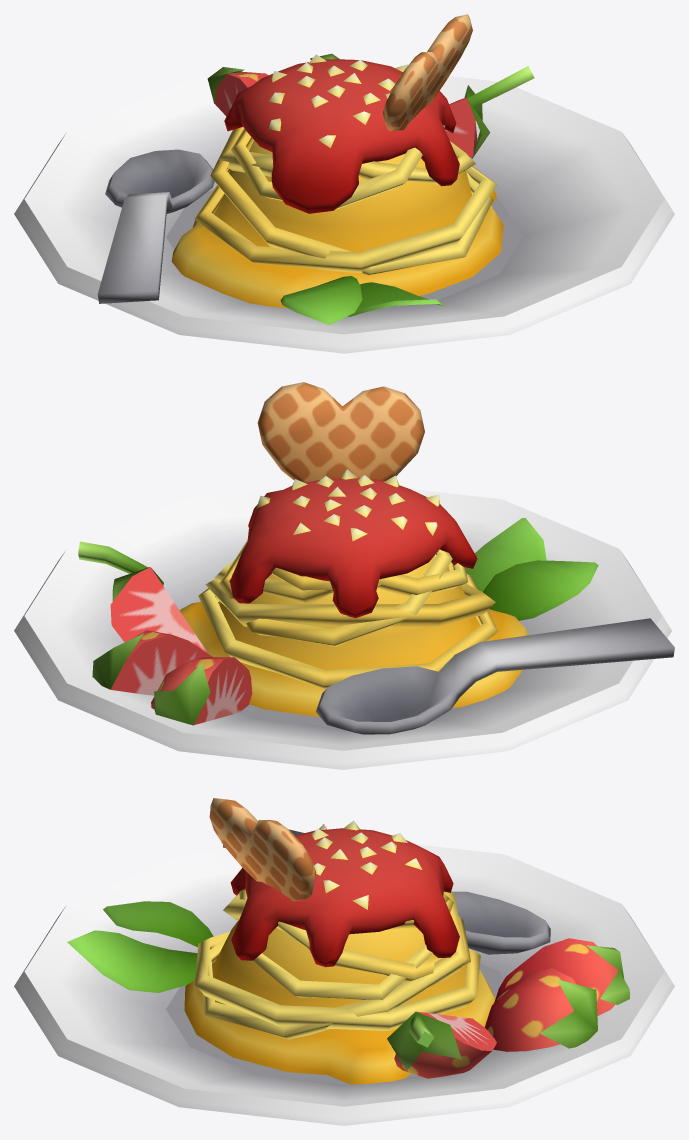
Rendered from m_SpaghettiIceCream01.fbx.
The picture shows the model from 3 angles, top to bottom: view 1: azimuth 30°, elevation 25°; view 2: azimuth 150°, elevation 25°; view 3: azimuth 270°, elevation 25°; orthographic projection.
Parts seen in each view (by area): view 1: m_SpaghettiIceCream01; view 2: m_SpaghettiIceCream01; view 3: m_SpaghettiIceCream01.
Part boxes in pixels (<box>): m_SpaghettiIceCream01: <box>14,14,674,353</box>; m_SpaghettiIceCream01: <box>14,382,674,769</box>; m_SpaghettiIceCream01: <box>14,798,674,1125</box>.
Bounding box in the file's own units: 26.09 × 10.53 × 25.92.
